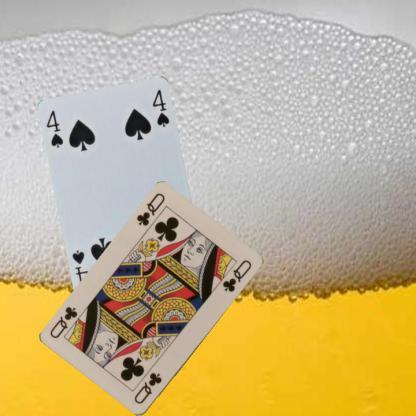4s: (44, 108, 65, 149)
Qc: (134, 190, 166, 228), (131, 370, 164, 406)
